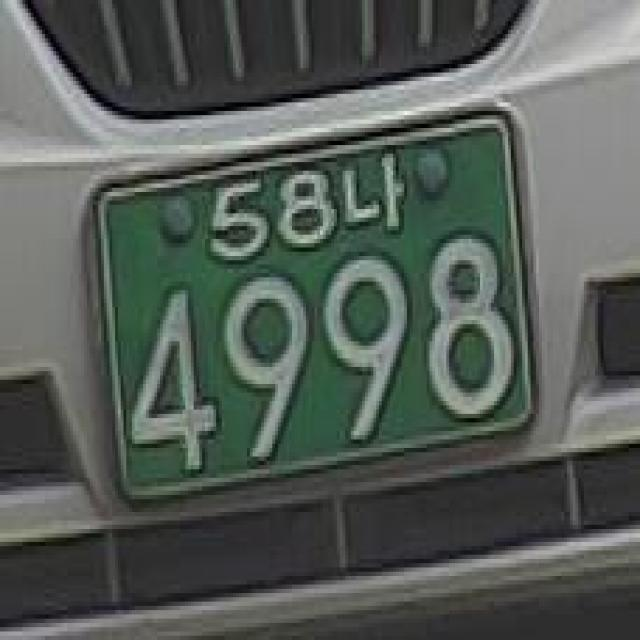illegal_plate: (81, 100, 550, 522)
